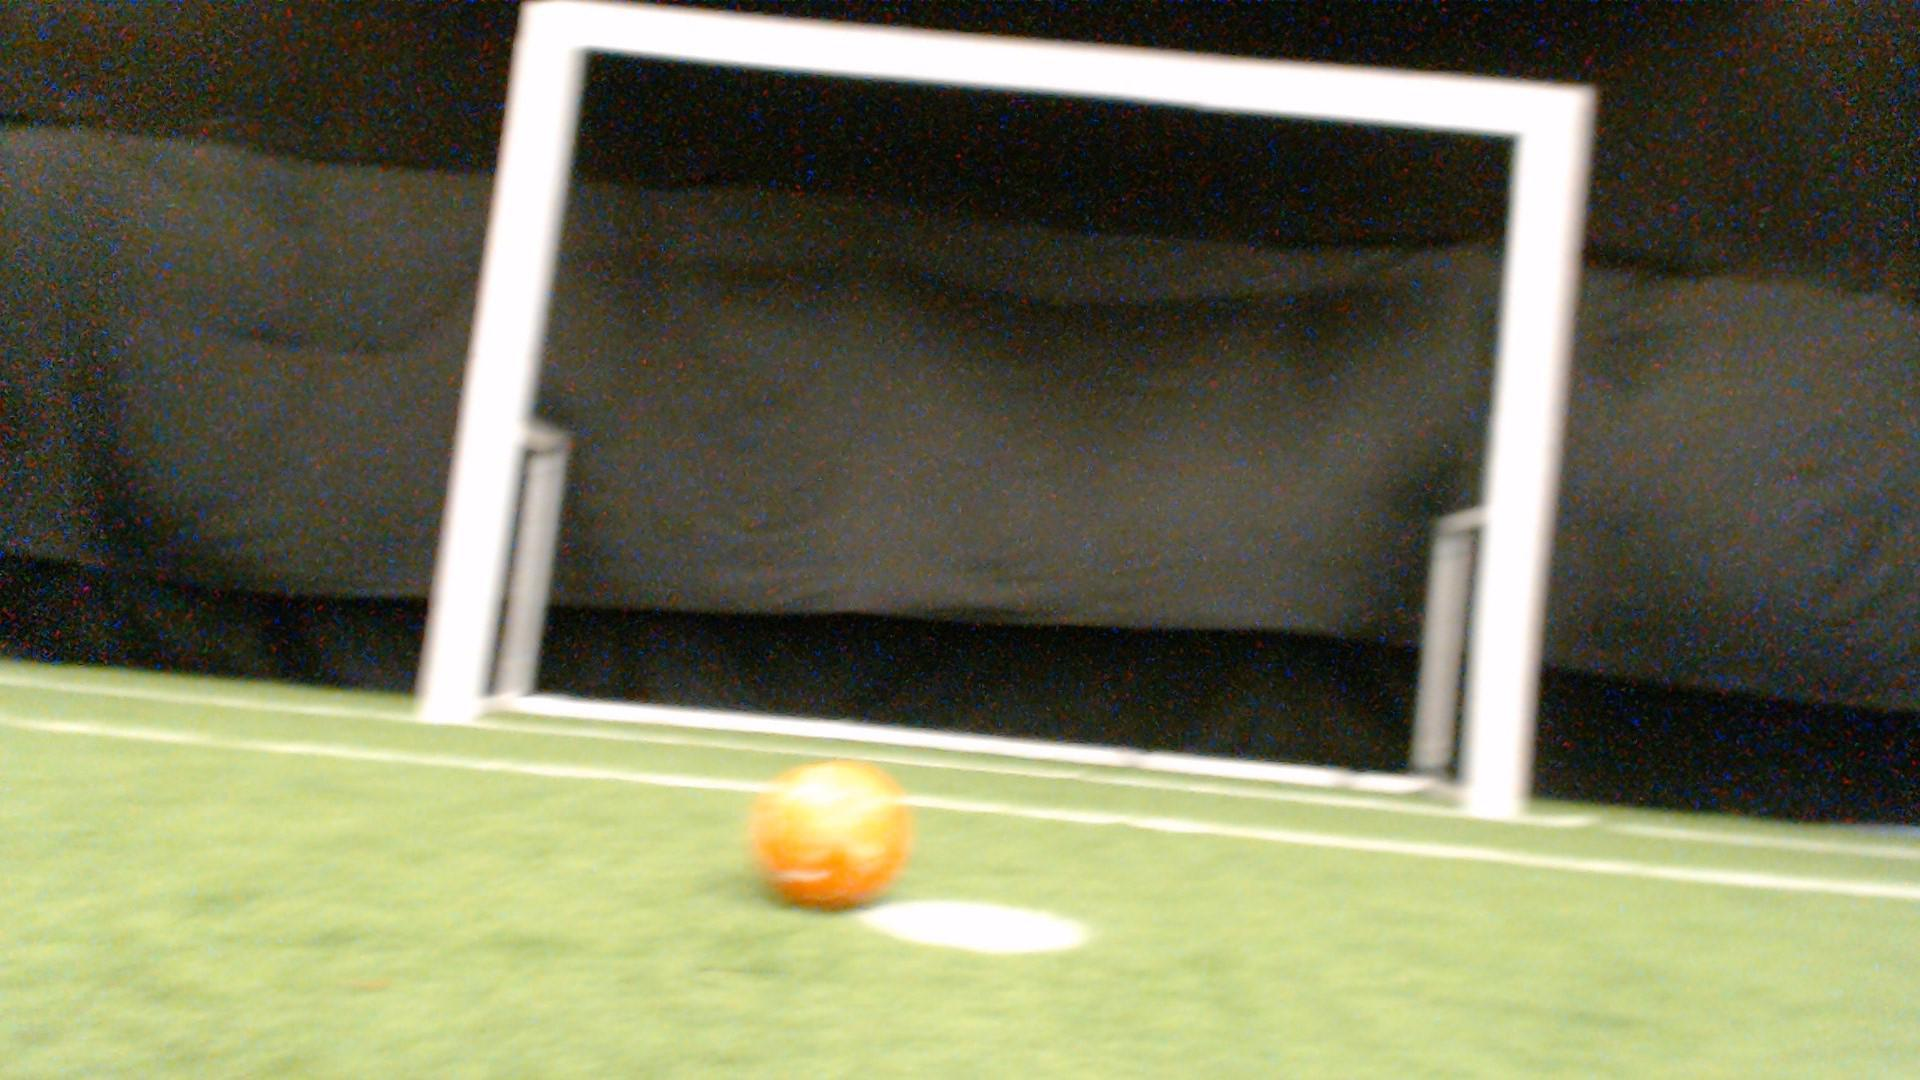bola: (732, 742, 940, 926)
